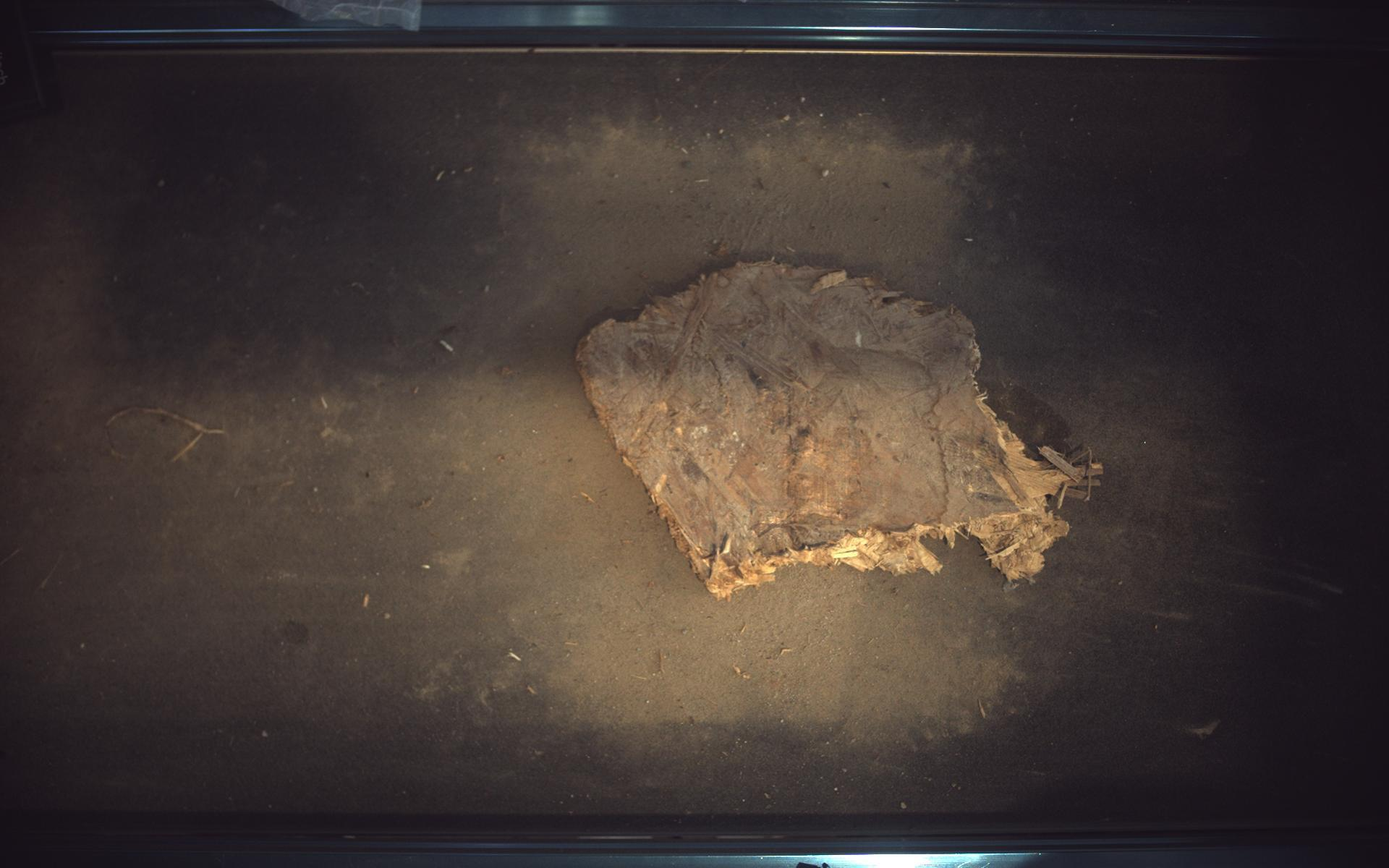wood: (577, 260, 1105, 599)
